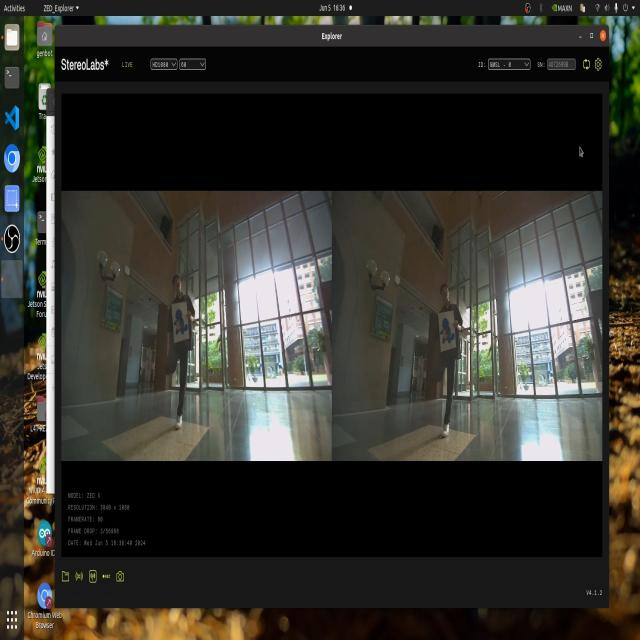blue: (164, 303, 193, 337), (439, 316, 459, 354)
